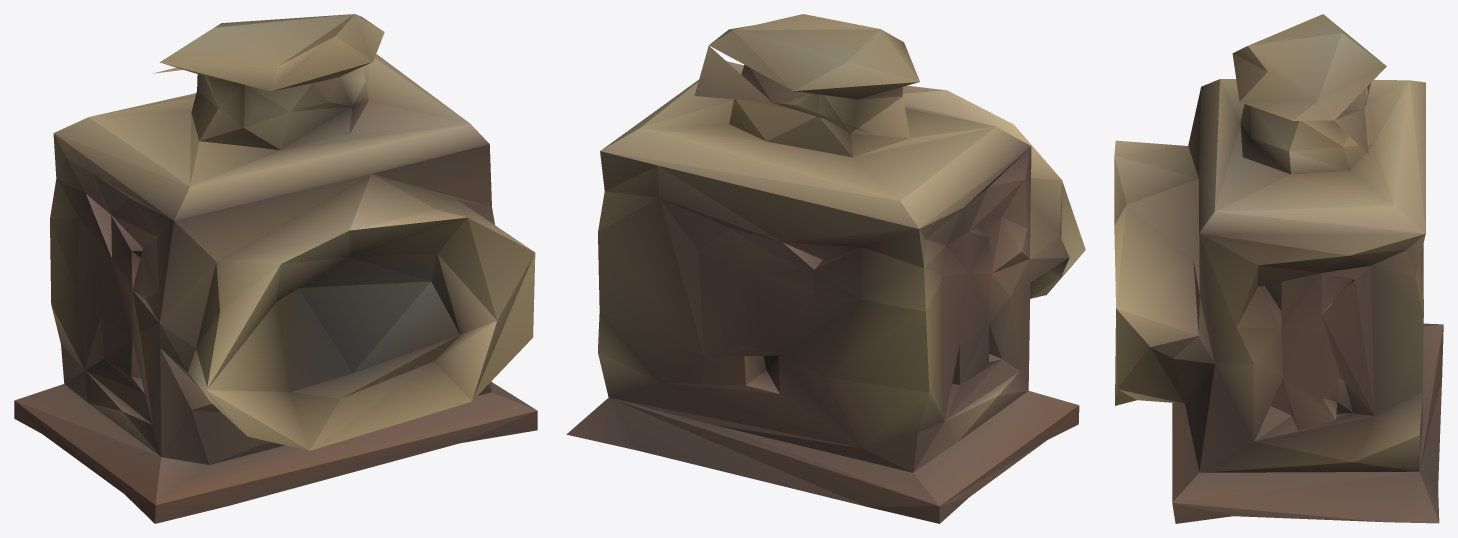
The model's file is aholo-optical-bell.glb.
The picture shows the model from 3 angles, left to right: view 1: azimuth 30°, elevation 25°; view 2: azimuth 150°, elevation 25°; view 3: azimuth 270°, elevation 25°; orthographic projection. The views are drawn at different scales.
Size of the model in its own units: 0.7165 by 0.7075 by 0.5541.
